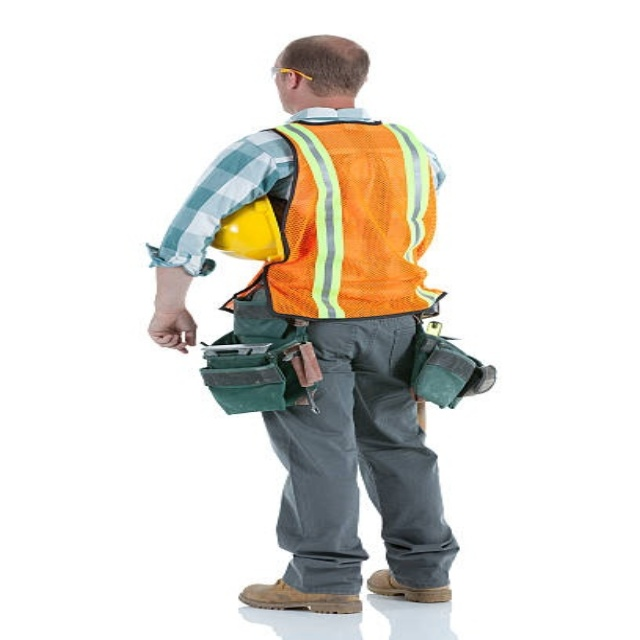Gafas: (270, 66, 312, 83)
Sin_guantes: (147, 305, 198, 354)
